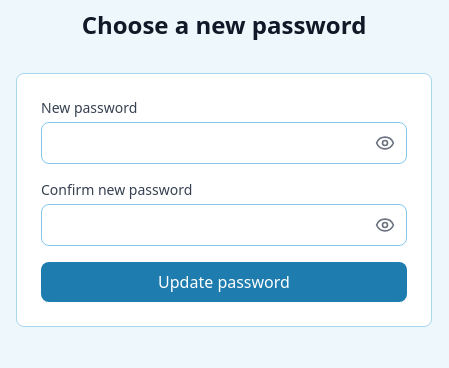
Test: ResetPasswordPage › rejects passwords shorter than 8 characters
The image size is (449, 368).
Type "short" into the password field labelled "New password" at (224, 143), box [41,122,407,164]
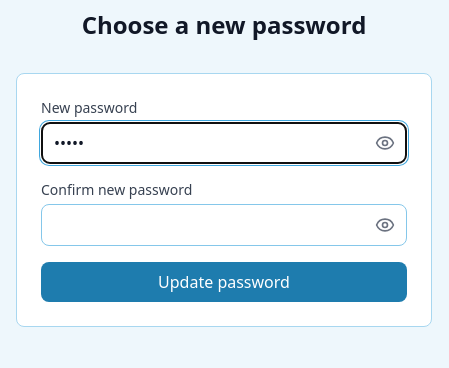
Type "short" into the password field labelled "Confirm new password" at (224, 225), box [41,204,407,246]
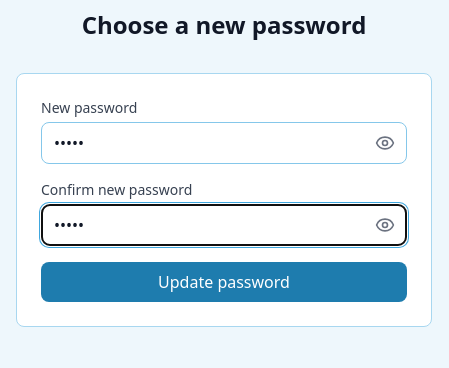
Click the button "Update password" at (224, 282), box [41,262,407,302]
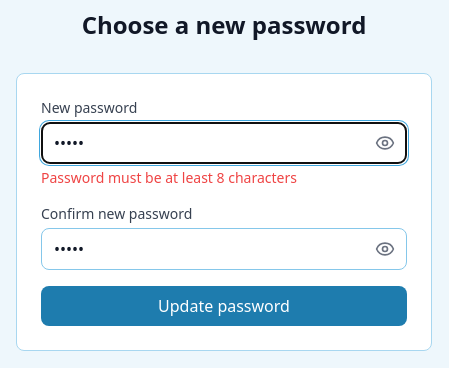
Check: the text "Password must be at least 8 characters" is shown, box [41,168,297,187]
